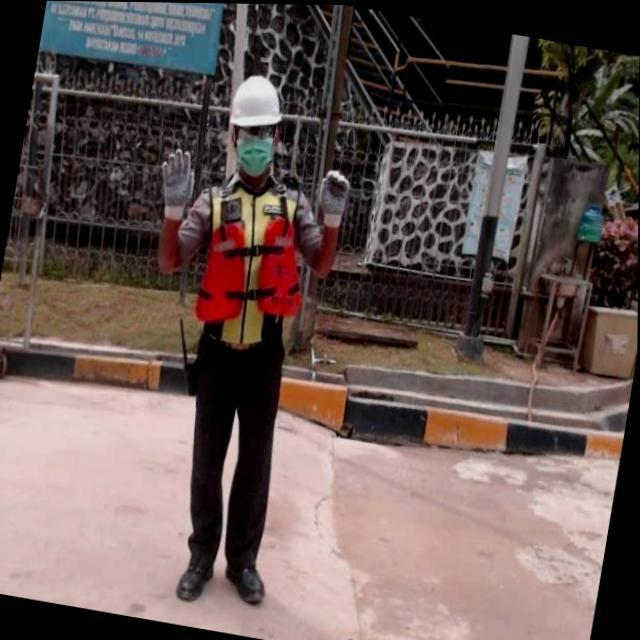goggles_on: (230, 120, 283, 147)
